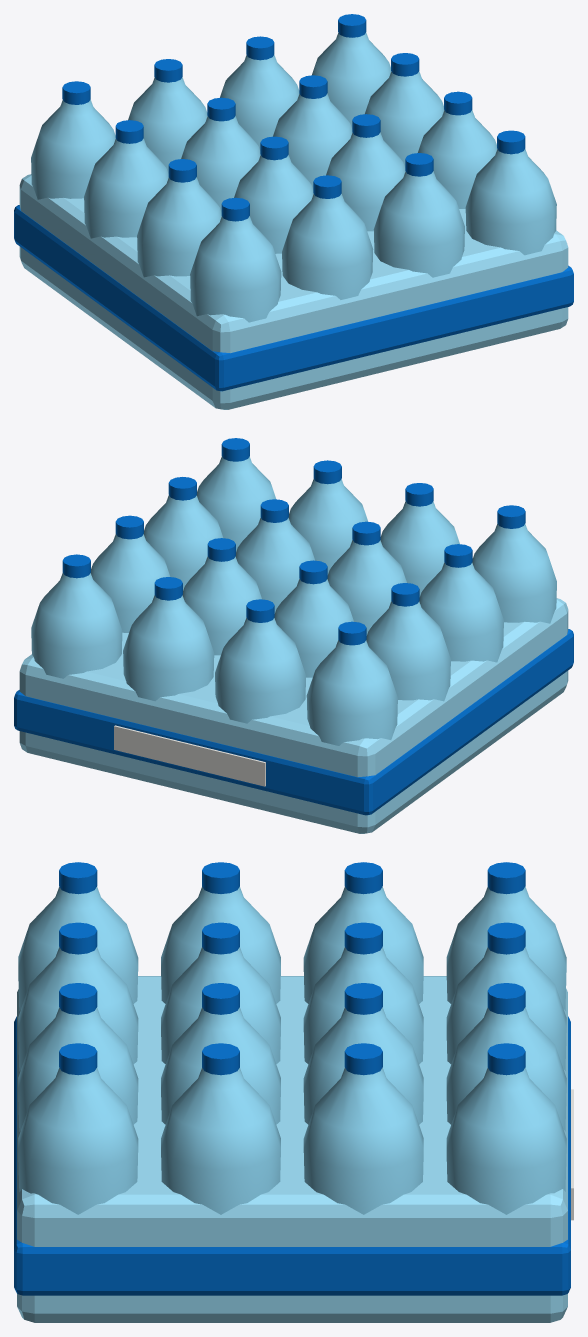
The model's file is water.fbx.
3 views of the same model, one above another, from view 1: azimuth 30°, elevation 25°; view 2: azimuth 150°, elevation 25°; view 3: azimuth 270°, elevation 25° (orthographic). The views are drawn at different scales.
Parts seen in each view (by area): view 1: 24-Pack of Water; view 2: 24-Pack of Water; view 3: 24-Pack of Water.
Boxes of the visible parts, x1,y1,x2,y2 form: 24-Pack of Water: (14, 14, 573, 409); 24-Pack of Water: (14, 438, 573, 833); 24-Pack of Water: (14, 862, 573, 1322).
Size of the model in its own units: 1.9 by 0.95 by 1.91.
